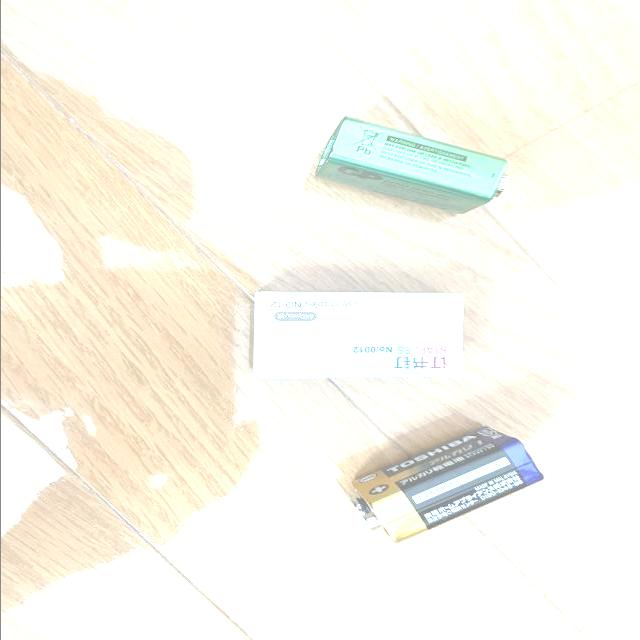9V: (349, 428, 544, 541), (313, 117, 508, 214)
